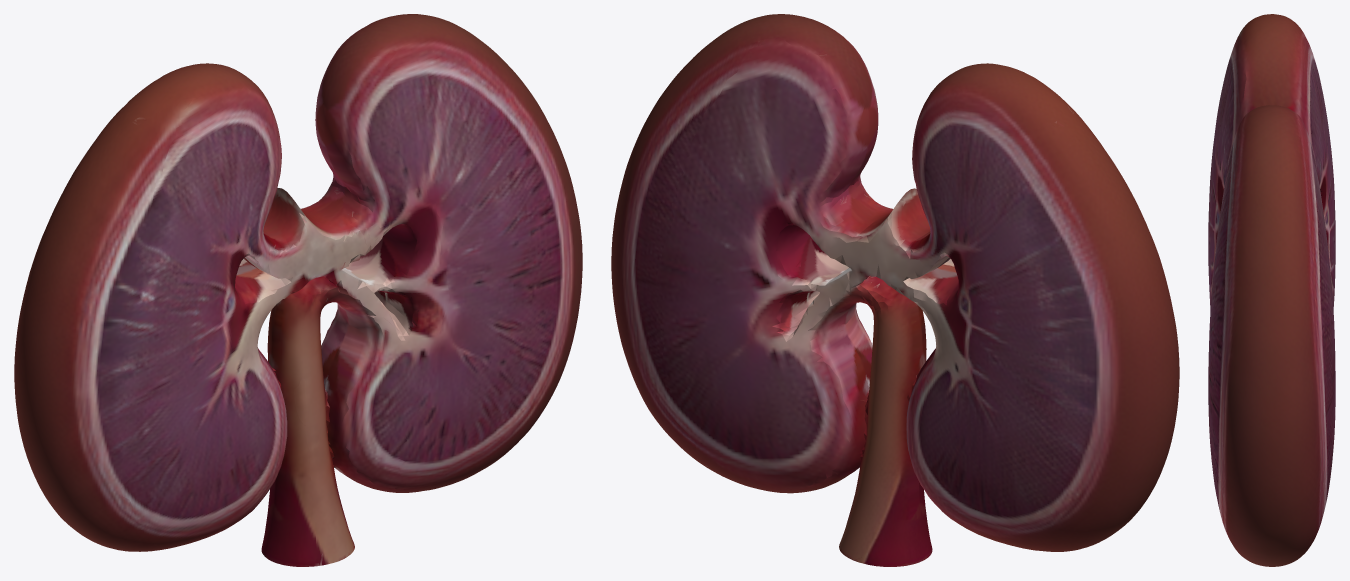
File: dog_kidney.glb
The picture shows the model from 3 angles, left to right: view 1: azimuth 30°, elevation 25°; view 2: azimuth 150°, elevation 25°; view 3: azimuth 270°, elevation 25°; orthographic projection. The views are drawn at different scales.
Parts seen in each view (by area): view 1: model; view 2: model; view 3: model.
Boxes of the visible parts, <box> form: model: <box>14,14,582,566</box>; model: <box>611,14,1179,566</box>; model: <box>1208,14,1335,566</box>.
Bounding box in the file's own units: 1.9 × 1.67 × 0.4184.
Materials: 1 (1 with a texture image).
